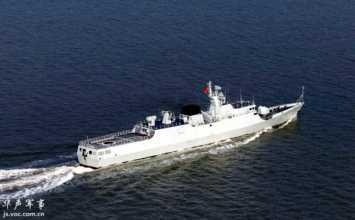warship: (75, 78, 308, 168)
